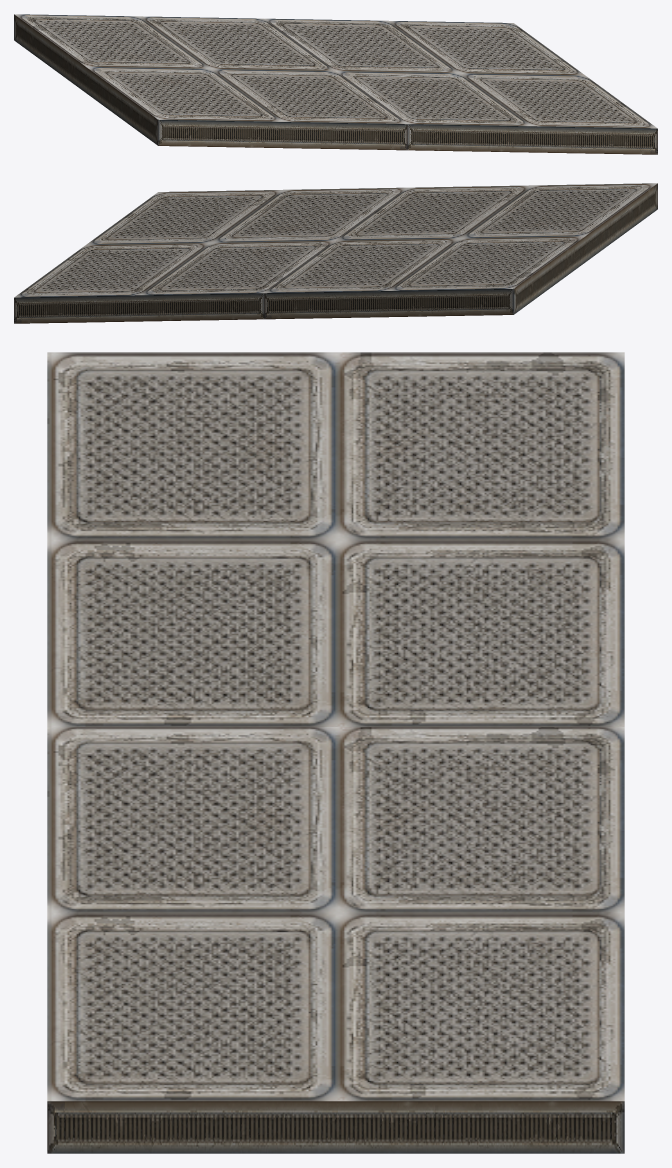
Rendered from scifi_ramp2_6.FBX.
3 renders of one model, top to bottom at view 1: azimuth 30°, elevation 25°; view 2: azimuth 150°, elevation 25°; view 3: azimuth 270°, elevation 25°, orthographic. The views are drawn at different scales.
Visible parts, largest first — view 1: Plane064; view 2: Plane064; view 3: Plane064.
Boxes of the visible parts, bbox=[...] form: Plane064: bbox=[14, 14, 657, 154]; Plane064: bbox=[14, 183, 657, 323]; Plane064: bbox=[47, 352, 624, 1153].
Bounding box in the file's own units: 508 × 152 × 254.
